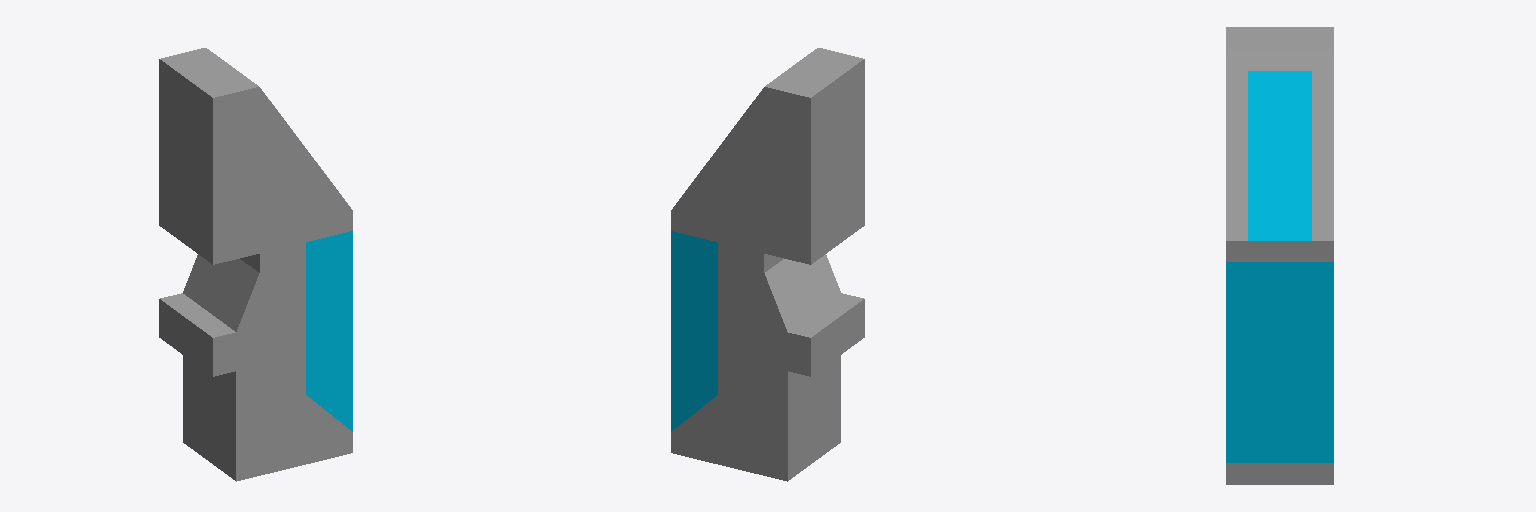
The model's file is strut.obj.
3 views of the same model, side by side, from view 1: azimuth 30°, elevation 25°; view 2: azimuth 150°, elevation 25°; view 3: azimuth 270°, elevation 25° (orthographic).
Visible parts, largest first — view 1: Mesh1 Strut1 Model; view 2: Mesh1 Strut1 Model; view 3: Mesh1 Strut1 Model.
Boxes of the visible parts, <box> form: Mesh1 Strut1 Model: <box>159,48,352,481</box>; Mesh1 Strut1 Model: <box>671,48,864,481</box>; Mesh1 Strut1 Model: <box>1226,27,1333,484</box>.
Bounding box in the file's own units: 1.5 × 4 × 1.